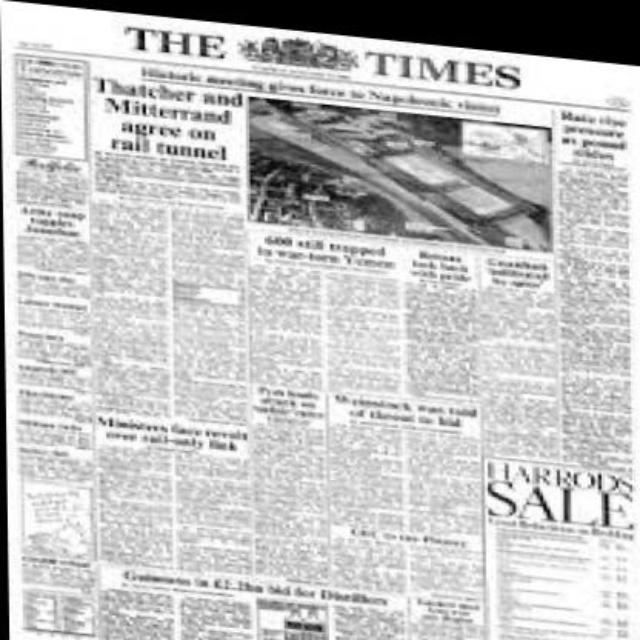trash: (0, 2, 638, 638)
